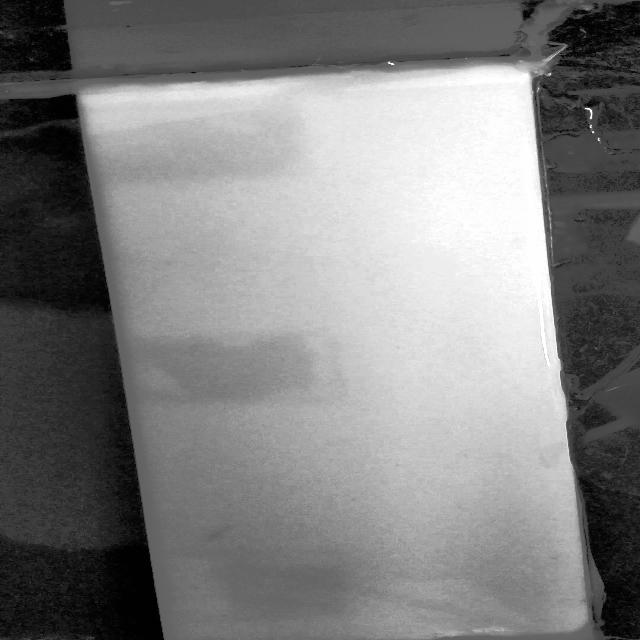shrimp: (197, 519, 243, 548)
